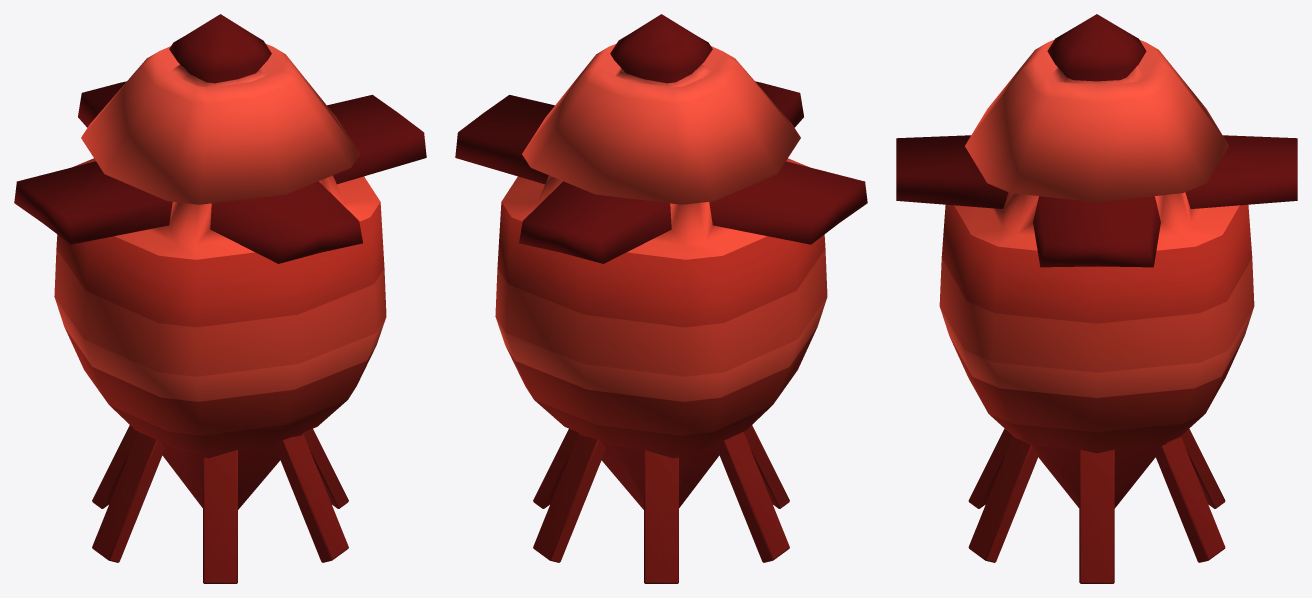
The model's file is Bomb_Atom.2.fbx.
3 views of the same model, side by side, from view 1: azimuth 30°, elevation 25°; view 2: azimuth 150°, elevation 25°; view 3: azimuth 270°, elevation 25° (orthographic).
Parts seen in each view (by area): view 1: Bomb_Atom_2, Cube_3, Cube_4, Cube_2, Cube_5, Cube_1; view 2: Bomb_Atom_2, Cube_5, Cube_4, Cube_0, Cube_3, Cube_1; view 3: Bomb_Atom_2, Cube_1, Cube_0, Cube_2, Cube_3, Cube_5.
Part boxes in pixels (x1,y1,x2,y2): Bomb_Atom_2: (14,14,426,509); Cube_3: (203,450,237,583); Cube_4: (92,432,164,562); Cube_2: (276,433,348,562); Cube_5: (92,425,137,508); Cube_1: (303,428,348,508); Bomb_Atom_2: (455,14,867,509); Cube_5: (644,450,678,583); Cube_4: (717,432,789,562); Cube_0: (533,433,605,562); Cube_3: (744,425,789,508); Cube_1: (533,428,578,508); Bomb_Atom_2: (896,14,1297,508); Cube_1: (1079,449,1114,583); Cube_0: (1155,436,1225,562); Cube_2: (968,436,1039,562); Cube_3: (968,428,1012,508); Cube_5: (1181,428,1225,508).
Size of the model in its own units: 157 by 217 by 153.
1 material, 1 textured.
